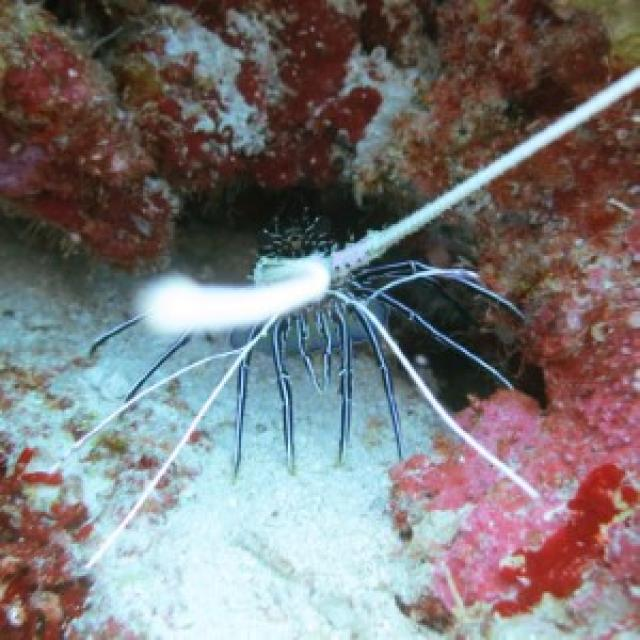lobsters: (68, 211, 538, 558)
